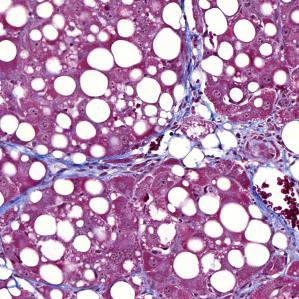fibrosis: (52, 153, 158, 188)
